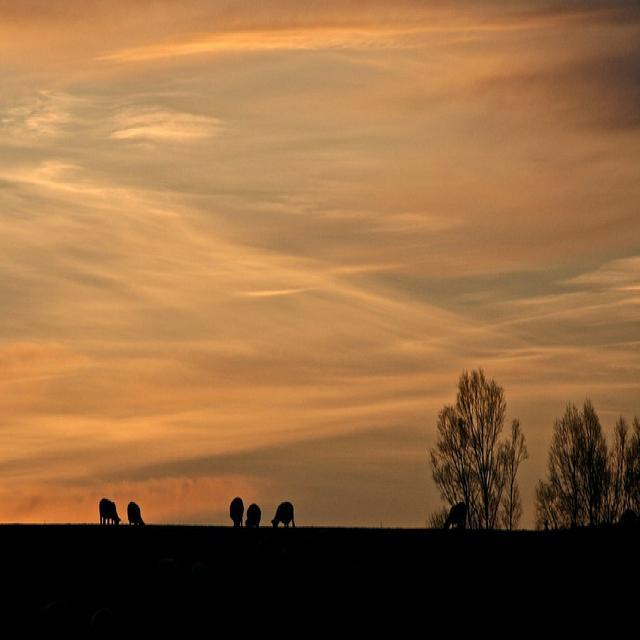cow: (126, 499, 148, 526)
